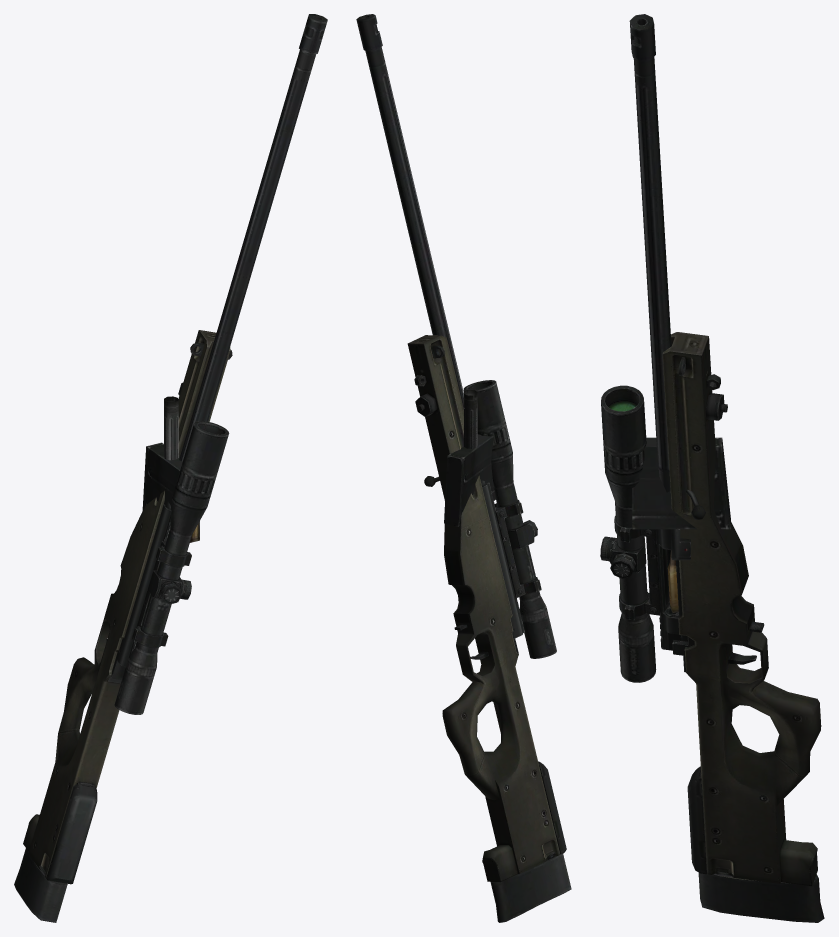
3 views of the same model, side by side, from view 1: azimuth 30°, elevation 25°; view 2: azimuth 150°, elevation 25°; view 3: azimuth 270°, elevation 25° (orthographic). The views are drawn at different scales.
Parts seen in each view (by area): view 1: Model_L115A1, Model_L115A1scope, Model_Magazine, Model_Handle01; view 2: Model_L115A1, Model_L115A1scope, Model_Magazine, Model_Handle01; view 3: Model_L115A1, Model_L115A1scope, Model_Magazine, Model_Handle02.
Part boxes in pixels (x1,y1,x2,y2): Model_L115A1: (14, 14, 327, 922); Model_L115A1scope: (114, 421, 229, 714); Model_Magazine: (142, 442, 199, 542); Model_Handle01: (164, 396, 178, 460); Model_L115A1: (356, 14, 571, 922); Model_L115A1scope: (463, 380, 556, 658); Model_Magazine: (444, 434, 495, 526); Model_Handle01: (424, 390, 477, 486); Model_L115A1: (629, 14, 824, 922); Model_L115A1scope: (600, 385, 661, 682); Model_Magazine: (632, 437, 730, 529); Model_Handle02: (671, 528, 690, 560).
Bounding box in the file's own units: 0.3826 × 1.23 × 0.2437.
Materials: 2 (2 with a texture image).
